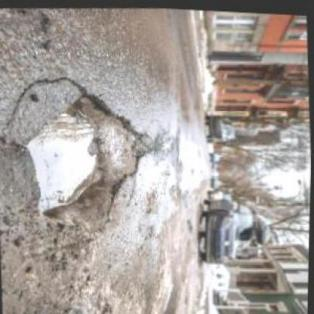Hueco: (22, 85, 149, 227)
